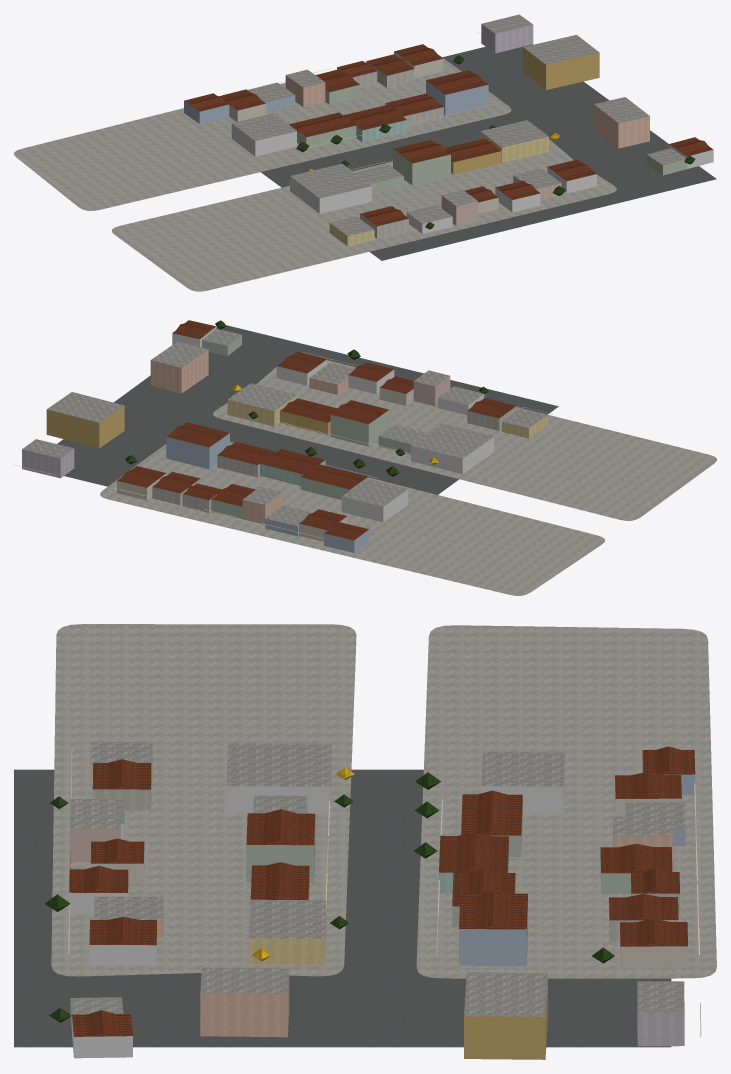
File: cidade_S01_01_lod.gltf
3 renders of one model, top to bottom at view 1: azimuth 30°, elevation 25°; view 2: azimuth 150°, elevation 25°; view 3: azimuth 270°, elevation 25°, orthographic. The views are drawn at different scales.
Visible parts, largest first — view 1: S01_01_Chao_LOD2, S01_01_Edificios_LOD1, S01_01_Silhueta_LOD2, S01_01_Vegetacao_LOD2; view 2: S01_01_Chao_LOD2, S01_01_Edificios_LOD1, S01_01_Silhueta_LOD2, S01_01_Vegetacao_LOD2; view 3: S01_01_Chao_LOD2, S01_01_Edificios_LOD1, S01_01_Silhueta_LOD2, S01_01_Vegetacao_LOD2.
Part boxes in pixels (bbox=[...]): S01_01_Chao_LOD2: bbox=[14, 44, 716, 291]; S01_01_Edificios_LOD1: bbox=[184, 14, 713, 246]; S01_01_Silhueta_LOD2: bbox=[184, 44, 713, 237]; S01_01_Vegetacao_LOD2: bbox=[296, 55, 695, 229]; S01_01_Chao_LOD2: bbox=[57, 325, 716, 595]; S01_01_Edificios_LOD1: bbox=[14, 323, 552, 552]; S01_01_Silhueta_LOD2: bbox=[117, 320, 516, 552]; S01_01_Vegetacao_LOD2: bbox=[125, 320, 488, 476]; S01_01_Chao_LOD2: bbox=[14, 624, 716, 1047]; S01_01_Edificios_LOD1: bbox=[68, 742, 701, 1059]; S01_01_Silhueta_LOD2: bbox=[69, 750, 695, 1058]; S01_01_Vegetacao_LOD2: bbox=[44, 767, 614, 1022].
Bounding box in the file's own units: 157 × 7.37 × 107.
Materials: 19 (19 with a texture image).
